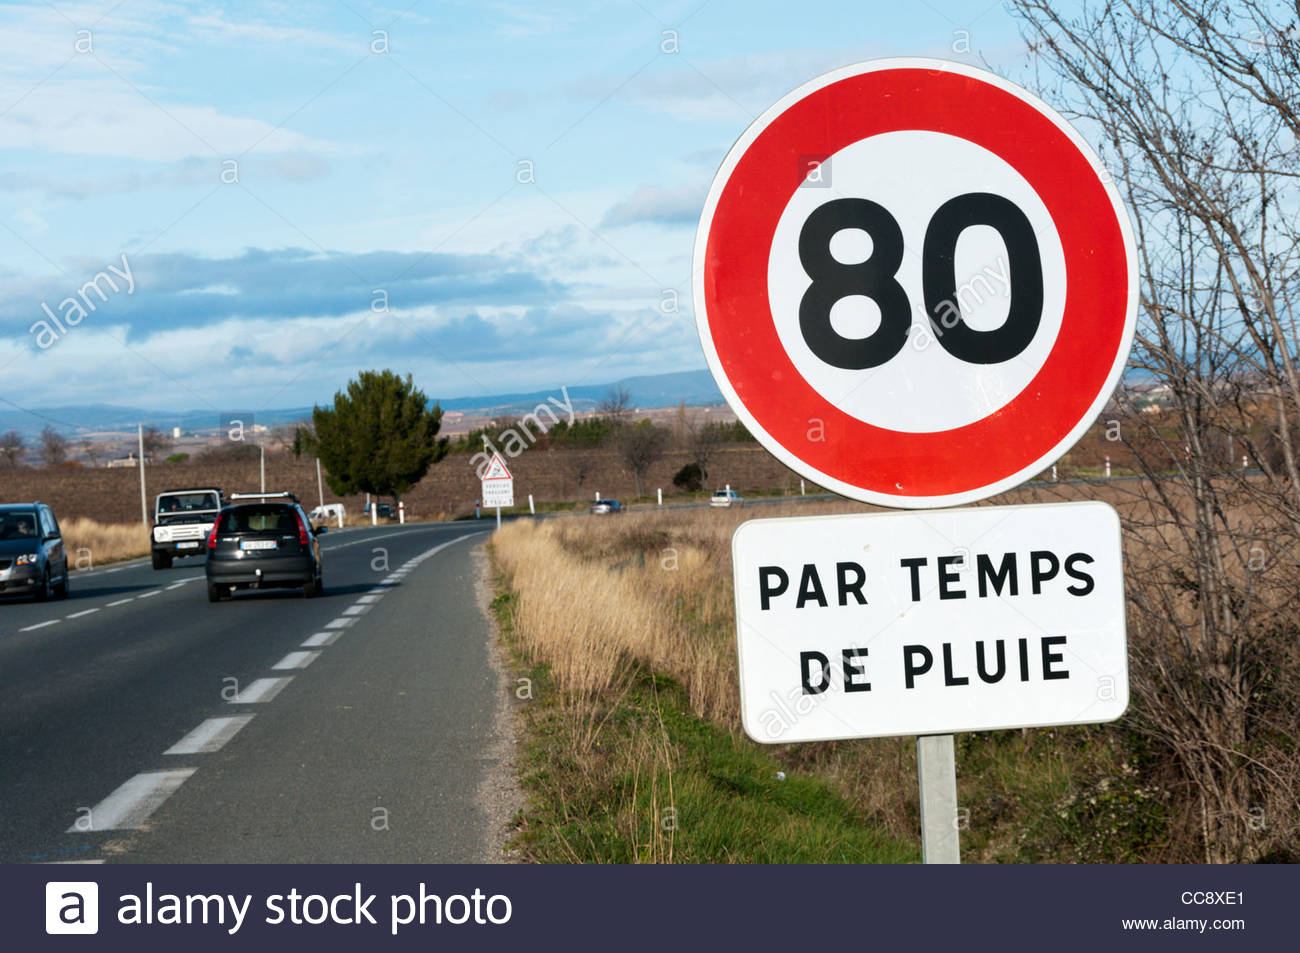speed_limit_80: (692, 58, 1134, 510)
